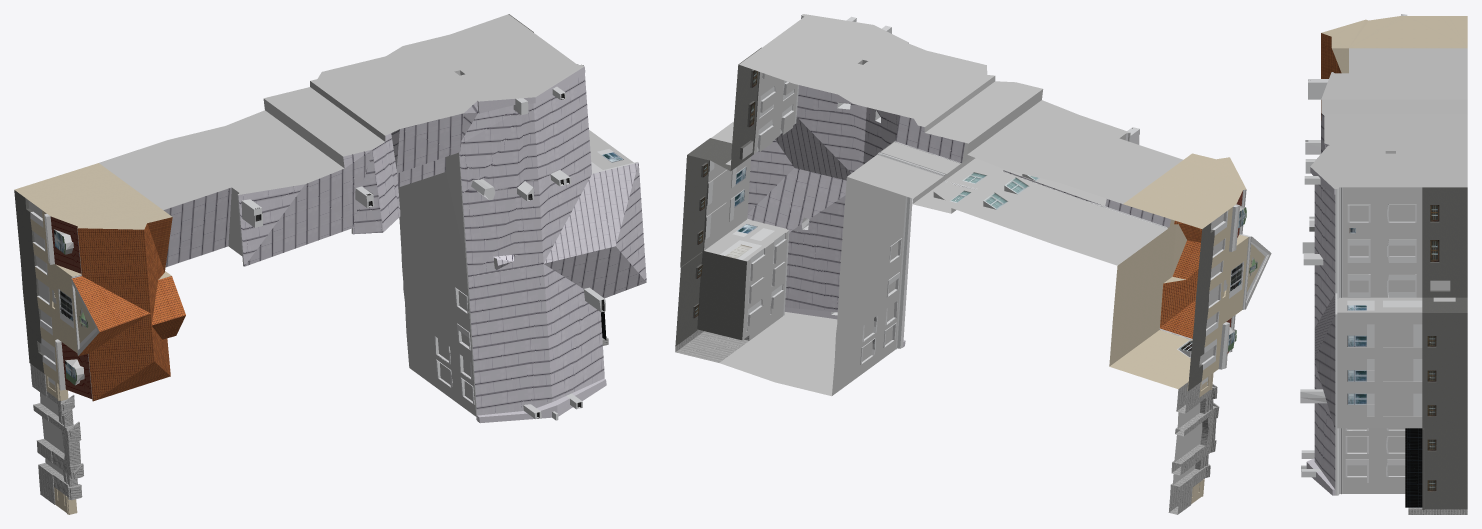
Rendered from Aia11-origo.obj.
3 views of the same model, side by side, from view 1: azimuth 30°, elevation 25°; view 2: azimuth 150°, elevation 25°; view 3: azimuth 270°, elevation 25° (orthographic). The views are drawn at different scales.
Parts seen in each view (by area): view 1: Aia11; view 2: Aia11; view 3: Aia11.
Boxes of the visible parts, bbox=[...] form: Aia11: bbox=[14, 14, 646, 514]; Aia11: bbox=[675, 14, 1271, 514]; Aia11: bbox=[1300, 14, 1467, 514].
Bounding box in the file's own units: 48.69 × 30 × 13.53.
